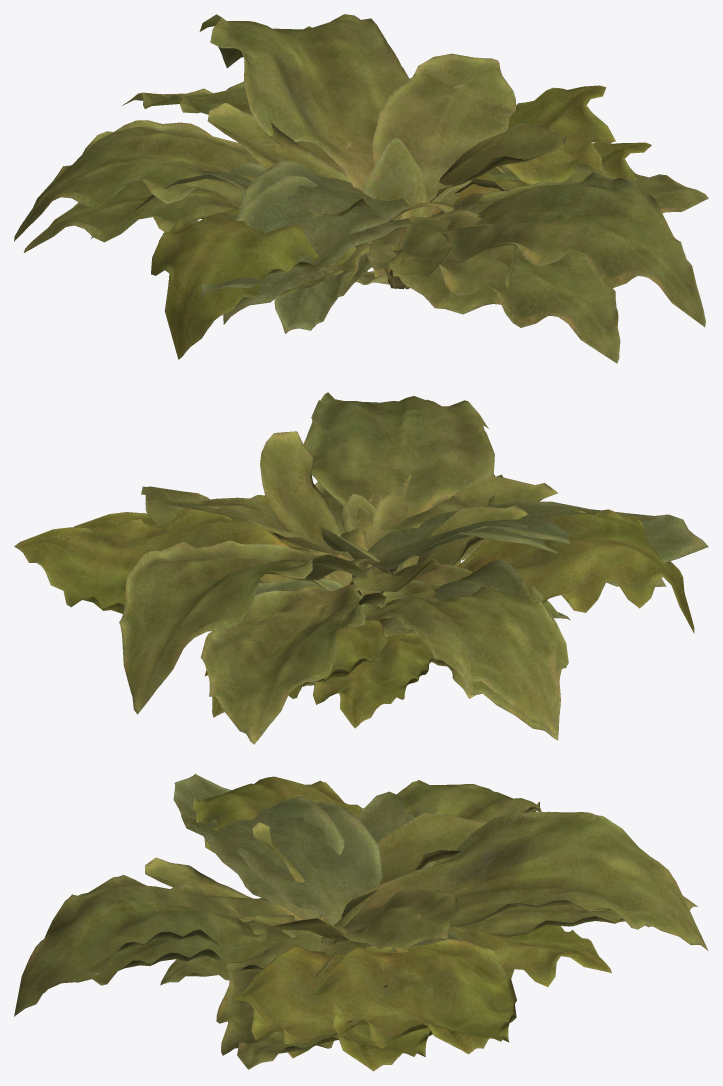
The model's file is iceplant-coastal.glb.
The picture shows the model from 3 angles, top to bottom: view 1: azimuth 30°, elevation 25°; view 2: azimuth 150°, elevation 25°; view 3: azimuth 270°, elevation 25°; orthographic projection. The views are drawn at different scales.
Parts seen in each view (by area): view 1: iceplant-coastal_a, iceplant-coastal_b, iceplant-coastal_c, iceplant-coastal_e, iceplant-coastal_d, iceplant-coastal_f; view 2: iceplant-coastal_b, iceplant-coastal_a, iceplant-coastal_c, iceplant-coastal_d; view 3: iceplant-coastal_a, iceplant-coastal_b, iceplant-coastal_c, iceplant-coastal_d.
Part boxes in pixels (x1,y1,x2,y2): iceplant-coastal_a: [24, 14, 705, 326]; iceplant-coastal_b: [14, 81, 620, 363]; iceplant-coastal_c: [91, 161, 708, 359]; iceplant-coastal_e: [274, 258, 360, 333]; iceplant-coastal_d: [279, 166, 504, 298]; iceplant-coastal_f: [323, 242, 369, 292]; iceplant-coastal_b: [14, 431, 666, 744]; iceplant-coastal_a: [73, 392, 708, 740]; iceplant-coastal_c: [141, 475, 694, 717]; iceplant-coastal_d: [255, 533, 460, 728]; iceplant-coastal_a: [14, 773, 708, 1071]; iceplant-coastal_b: [43, 780, 697, 1054]; iceplant-coastal_c: [193, 776, 611, 1069]; iceplant-coastal_d: [160, 915, 461, 985].
Size of the model in its own units: 0.2802 by 0.081 by 0.3155.
1 material, 1 textured.
